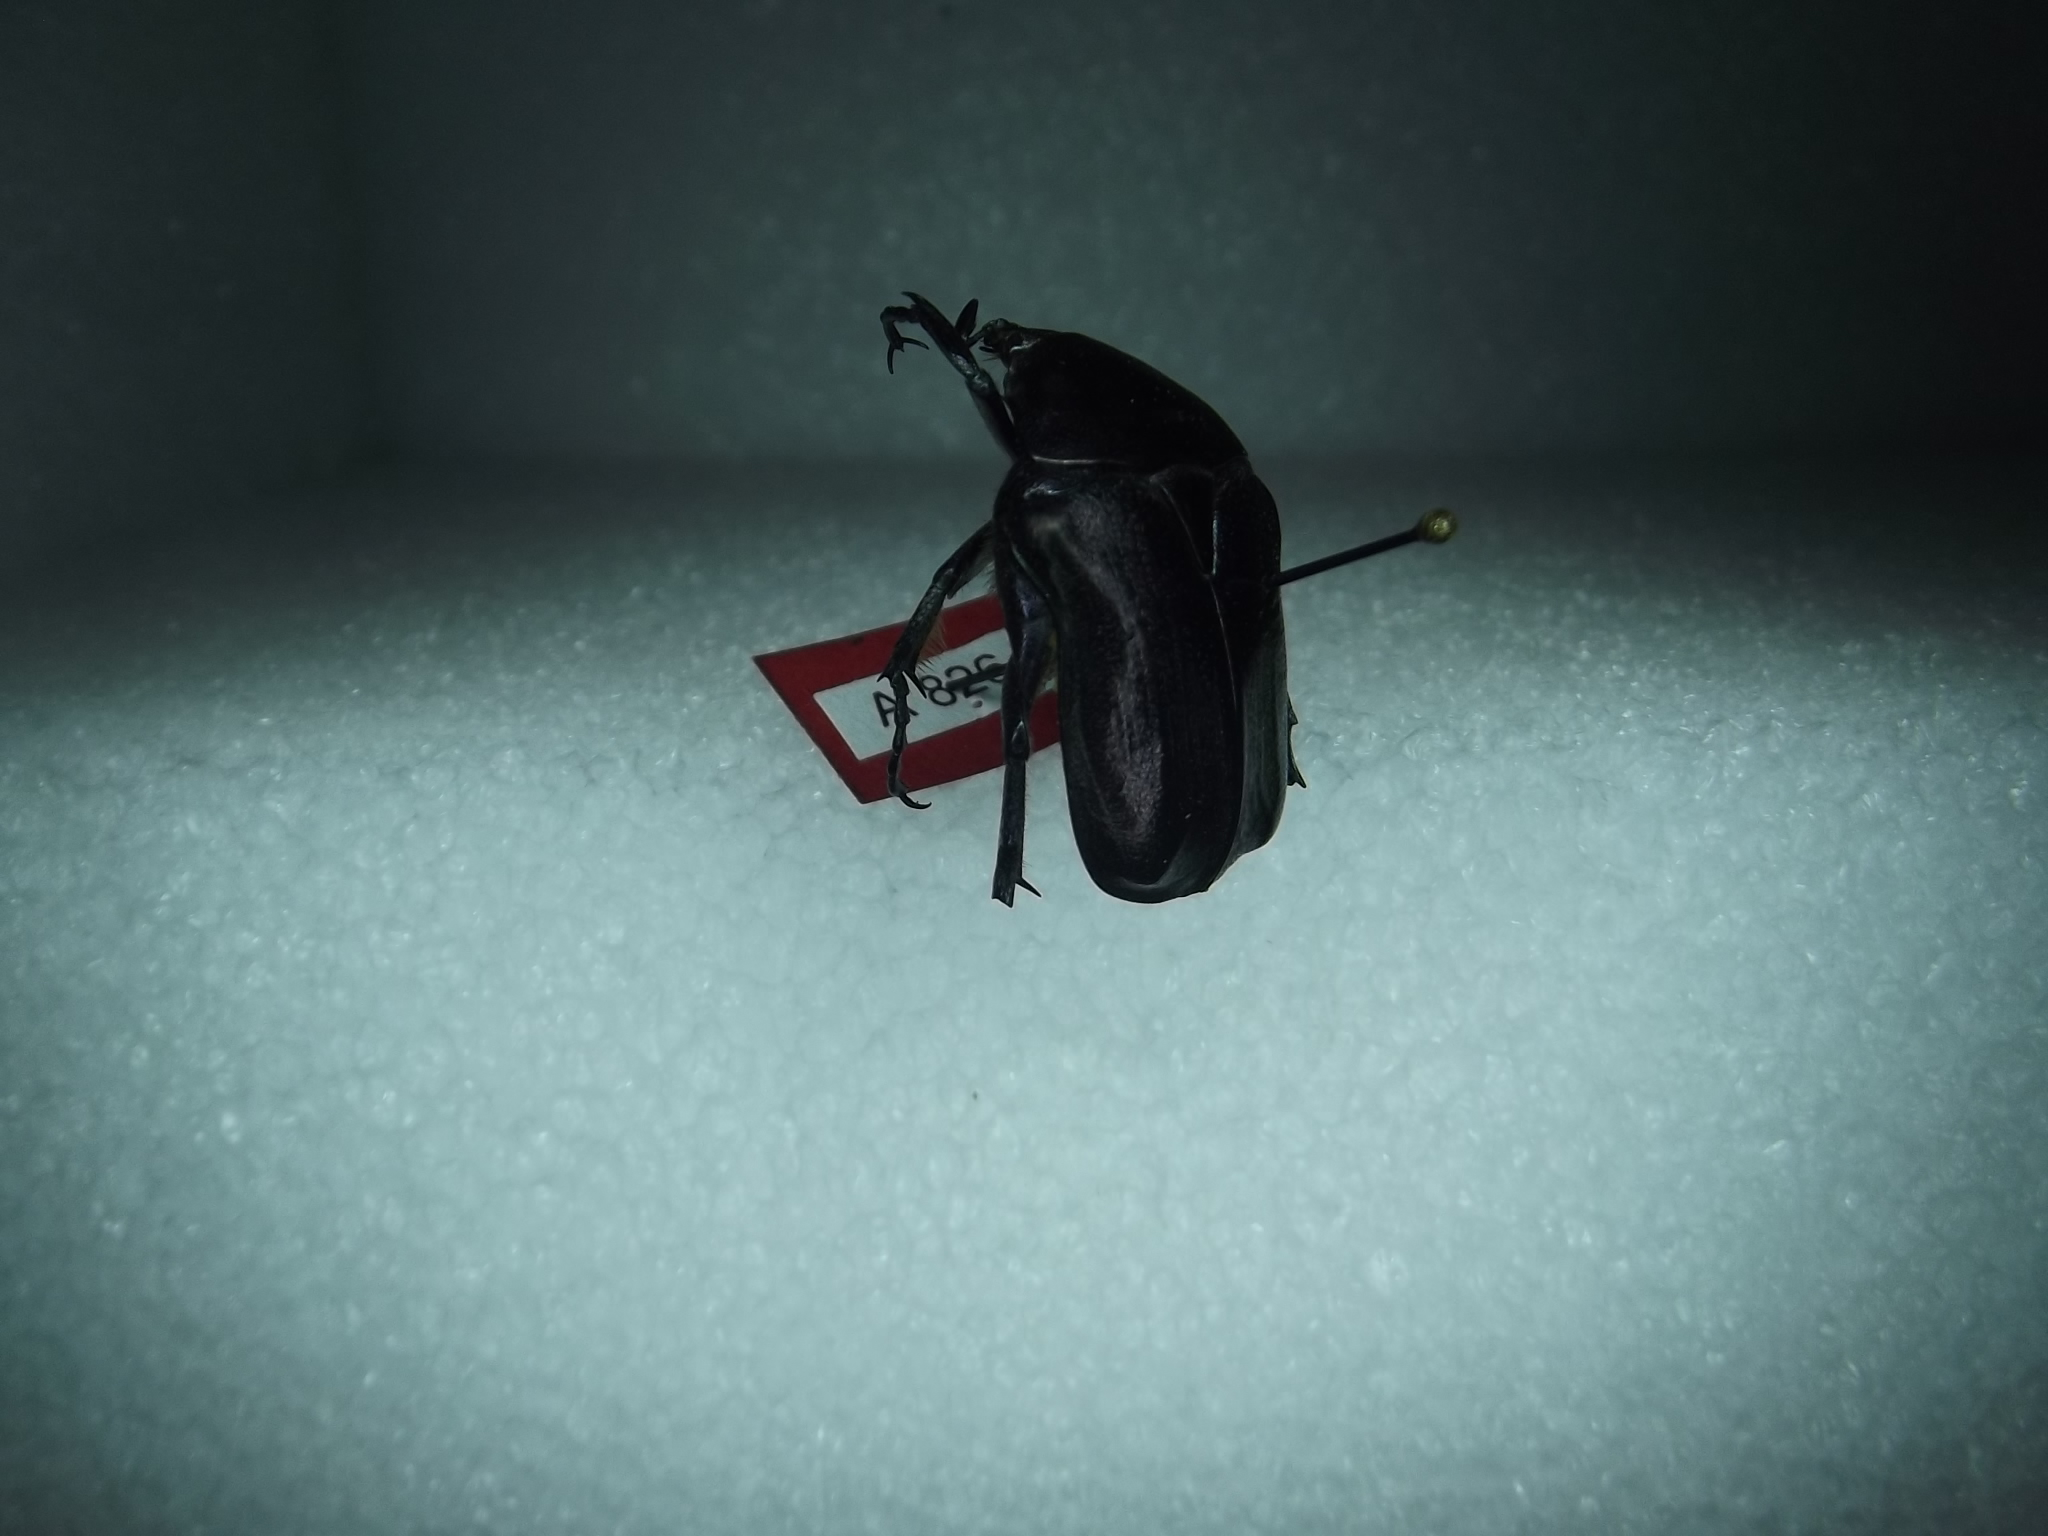Protaetia_besucheti: (835, 253, 1334, 925)
